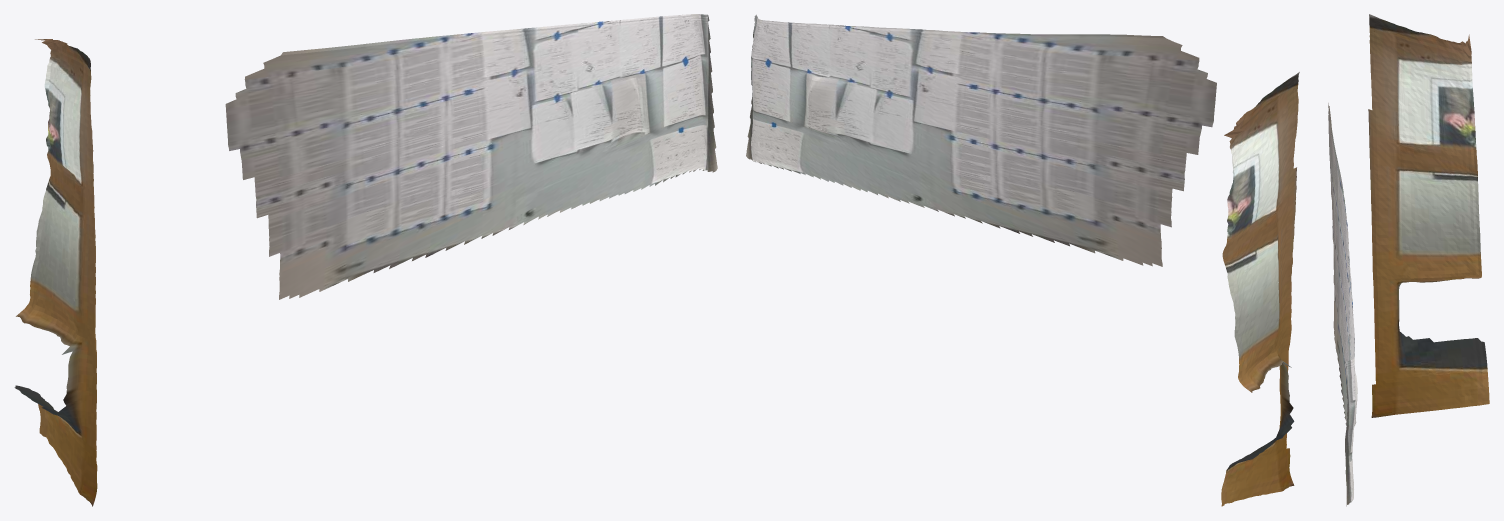
3 renders of one model, left to right at view 1: azimuth 30°, elevation 25°; view 2: azimuth 150°, elevation 25°; view 3: azimuth 270°, elevation 25°, orthographic. The views are drawn at different scales.
Visible parts, largest first — view 1: observed-raw-partial-grayboard, observed-raw-partial-wooddoor; view 2: observed-raw-partial-grayboard, observed-raw-partial-wooddoor; view 3: observed-raw-partial-wooddoor, observed-raw-partial-grayboard.
Part boxes in pixels (left/top/right/bottom): observed-raw-partial-grayboard: left=225, top=14, right=717, bottom=299; observed-raw-partial-wooddoor: left=14, top=39, right=97, bottom=506; observed-raw-partial-grayboard: left=746, top=14, right=1216, bottom=266; observed-raw-partial-wooddoor: left=1221, top=72, right=1299, bottom=506; observed-raw-partial-wooddoor: left=1368, top=14, right=1489, bottom=417; observed-raw-partial-grayboard: left=1328, top=103, right=1357, bottom=506.
Bounding box in the file's own units: 3.23 × 2.21 × 0.803.
1 material, 1 textured.
